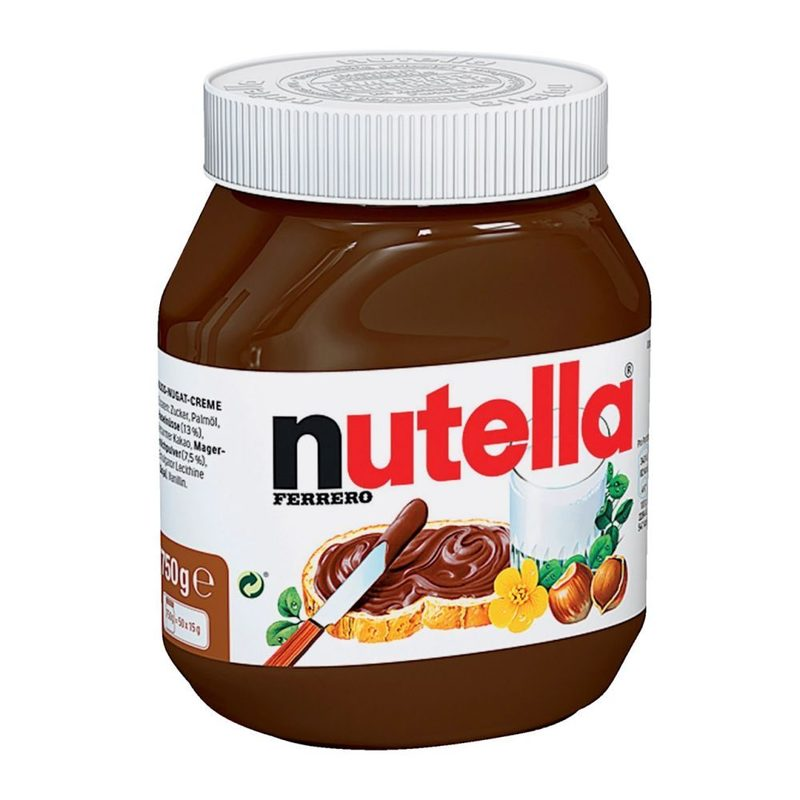nutella: (156, 50, 652, 747)
